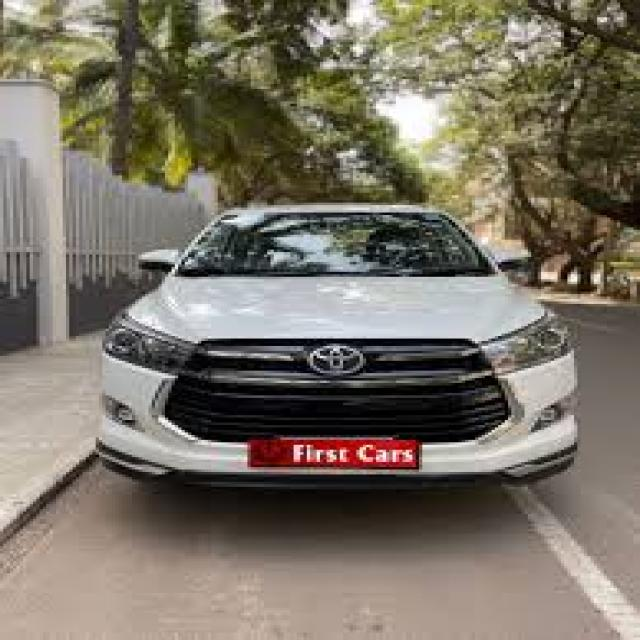light_vehicle: (94, 205, 578, 490)
